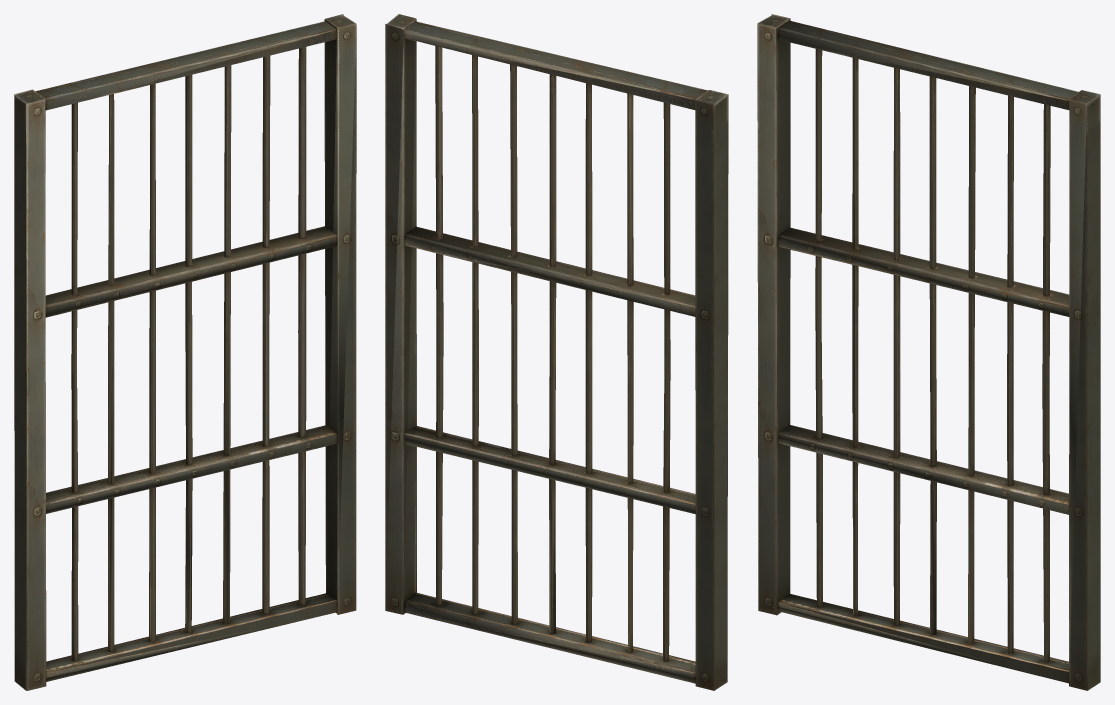
File: metal_grille_window.fbx
3 views of the same model, side by side, from view 1: azimuth 30°, elevation 25°; view 2: azimuth 150°, elevation 25°; view 3: azimuth 330°, elevation 25° (orthographic).
Parts seen in each view (by area): view 1: mesh_node; view 2: mesh_node; view 3: mesh_node.
Boxes of the visible parts, box(x1,y1,x2,y2) form: mesh_node: box(14, 14, 356, 690); mesh_node: box(385, 14, 728, 690); mesh_node: box(757, 14, 1100, 690).
Size of the model in its own units: 58.98 by 100 by 4.24.
1 material, 1 textured.
